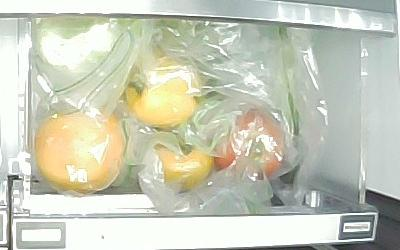apple_vinyl: (215, 106, 283, 176)
grapefruit: (33, 107, 126, 194)
paprika_vinyl: (124, 56, 201, 128)
persimmon_vinyl: (151, 135, 212, 189)
